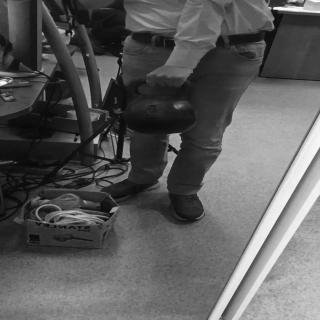kettlebell: (122, 75, 198, 136)
